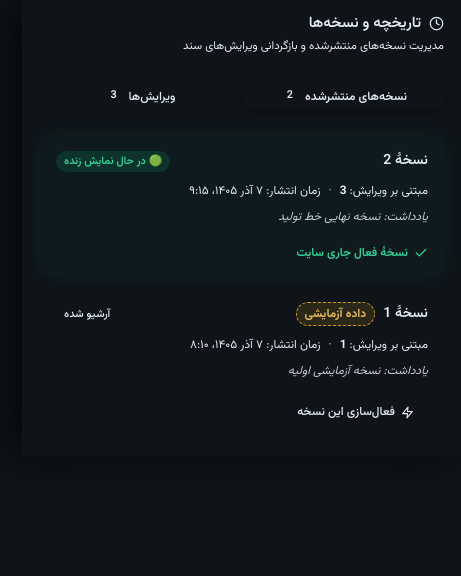
Test: VersionsPanel (History Drawer) › switches to revisions tab and restores a past revision
The width and height of the screenshot is (461, 576).
Later steps or results of the test are not shown.
Expected: the text "نسخهٔ 2" is shown, [383,150,428,172]
Click revisions tab
Step 1. Click the tab "ویرایش‌ها 3" → (140, 96), box [39,82,241,111]
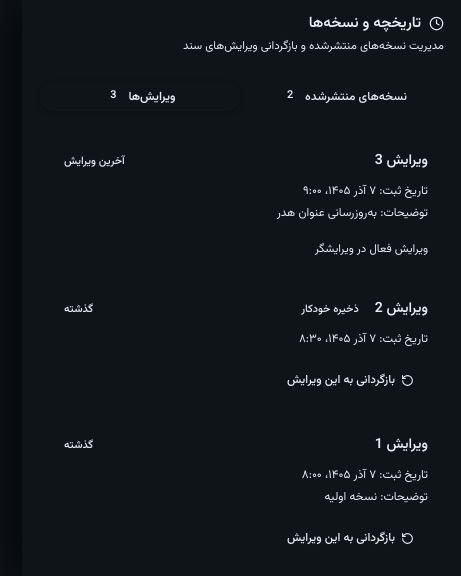
Expected: the text "ویرایش 3" is shown, [375,150,428,172]
Expected: the text "ویرایش 2" is shown, [375,298,428,320]
Expected: the text "ویرایش 1" is shown, [375,434,428,456]
